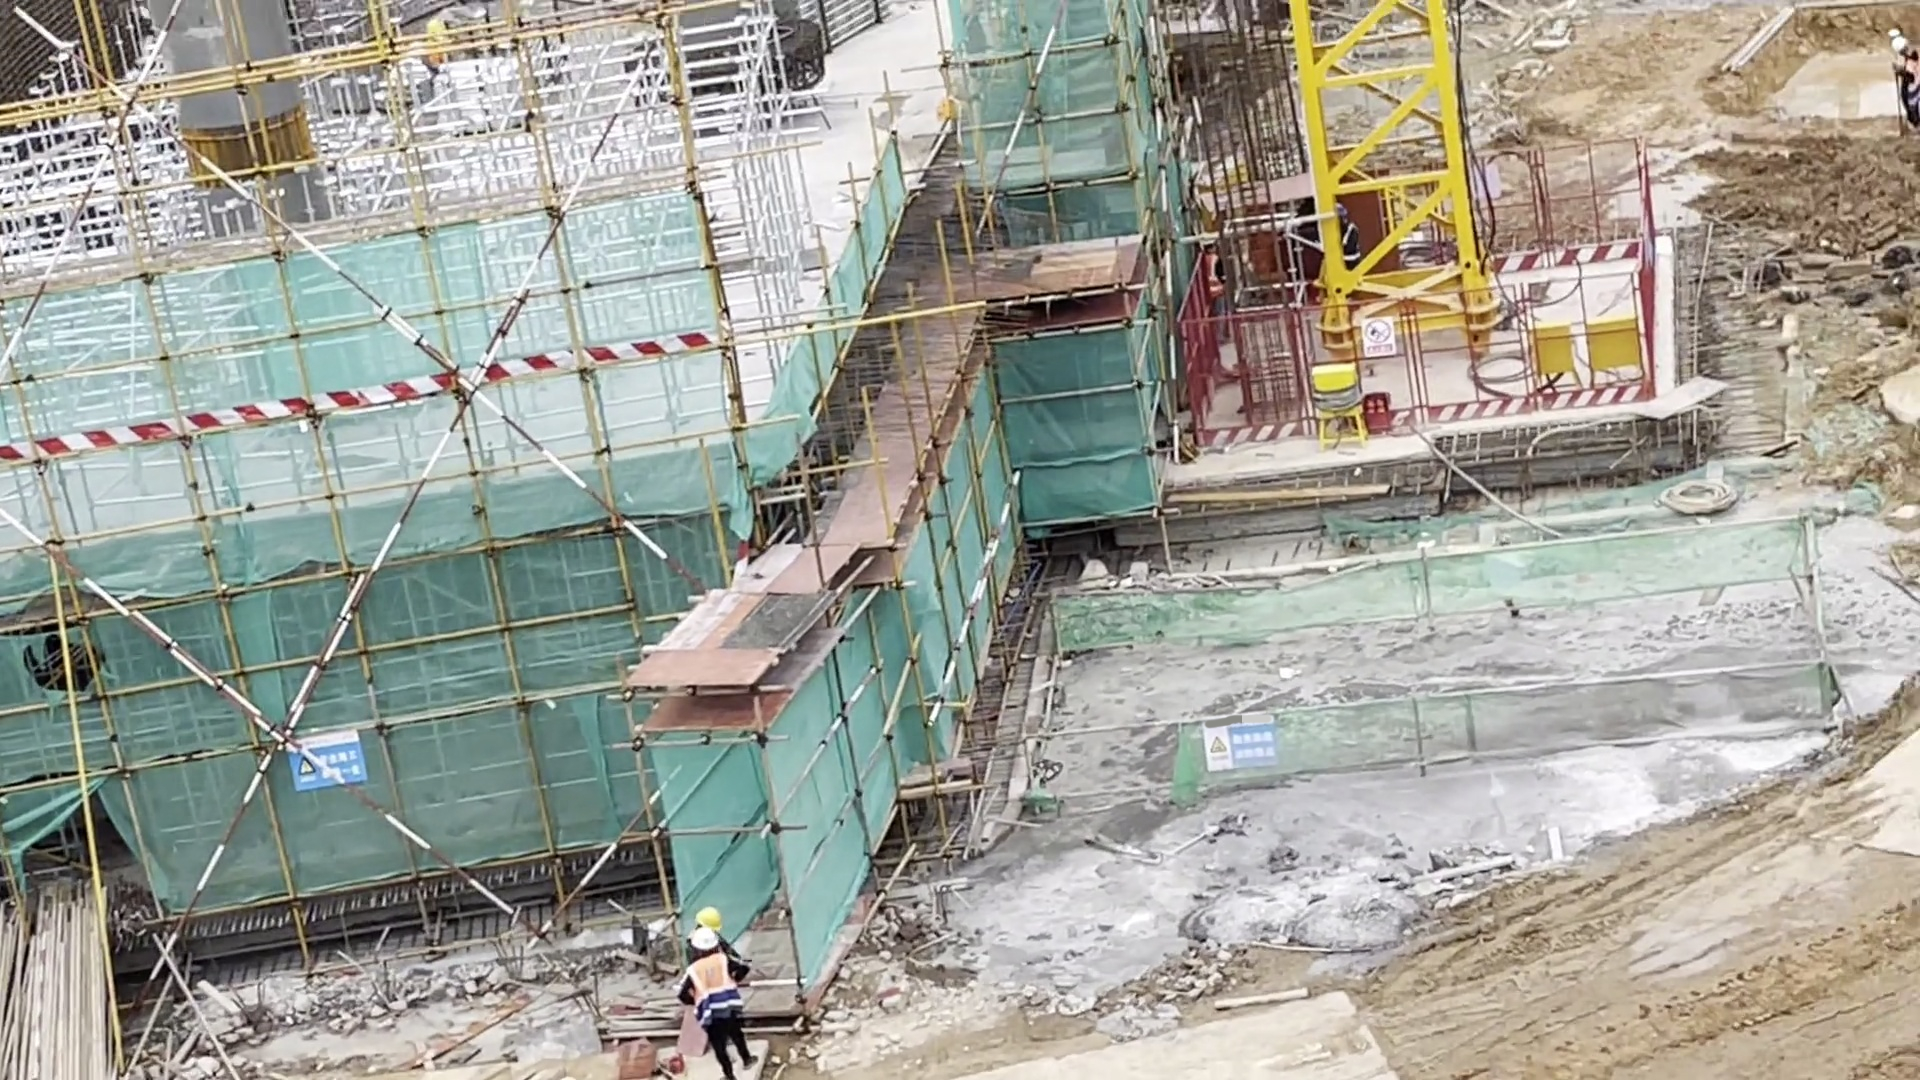ebox: (1310, 361, 1369, 446), (1582, 316, 1642, 377), (1530, 320, 1577, 381)
helmet: (1333, 197, 1359, 221), (689, 928, 718, 951), (694, 908, 726, 927), (1887, 36, 1914, 53)
person: (679, 910, 746, 1080), (1889, 33, 1920, 120), (1324, 195, 1360, 271)
vest: (695, 959, 743, 1029), (1894, 55, 1920, 94), (1341, 228, 1362, 255)
wood: (9, 852, 122, 1075)
